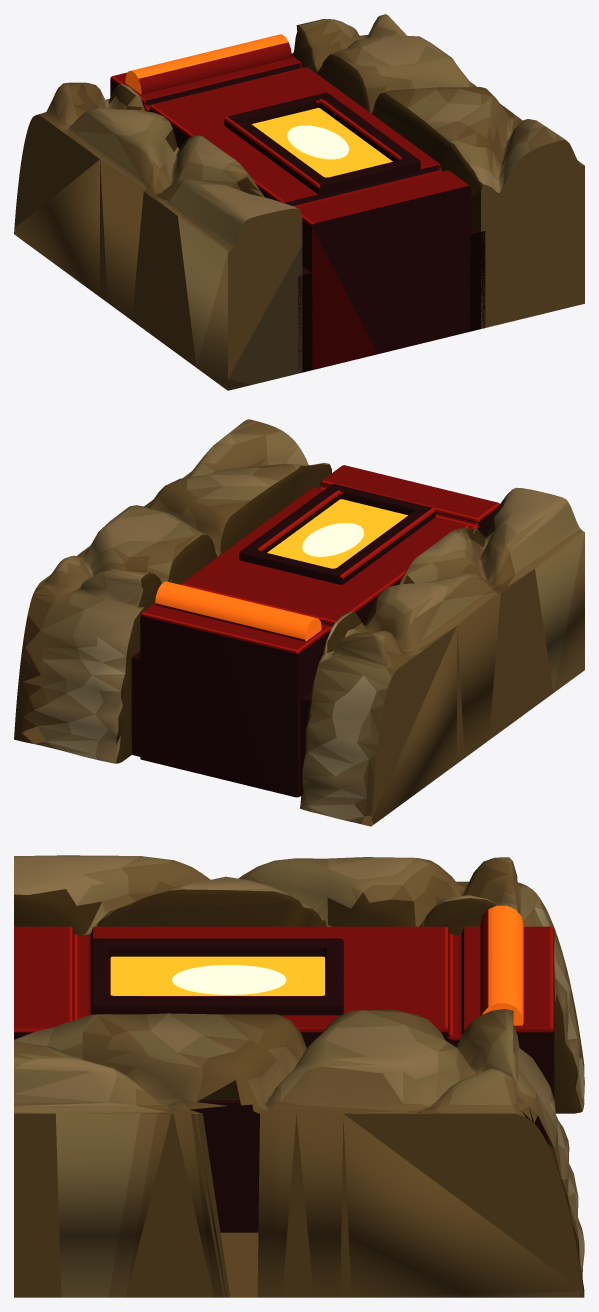
File: ixm_wall_slot_top_279.glb
3 renders of one model, top to bottom at view 1: azimuth 30°, elevation 25°; view 2: azimuth 150°, elevation 25°; view 3: azimuth 270°, elevation 25°, orthographic. The views are drawn at different scales.
Parts seen in each view (by area): view 1: ixm_wall_slot_top_279; view 2: ixm_wall_slot_top_279; view 3: ixm_wall_slot_top_279.
Boxes of the visible parts, box(x1,y1,x2,y2) form: ixm_wall_slot_top_279: box(14, 14, 584, 390); ixm_wall_slot_top_279: box(14, 419, 584, 826); ixm_wall_slot_top_279: box(14, 855, 584, 1297).
Size of the model in its own units: 24 by 10.86 by 24.93.
